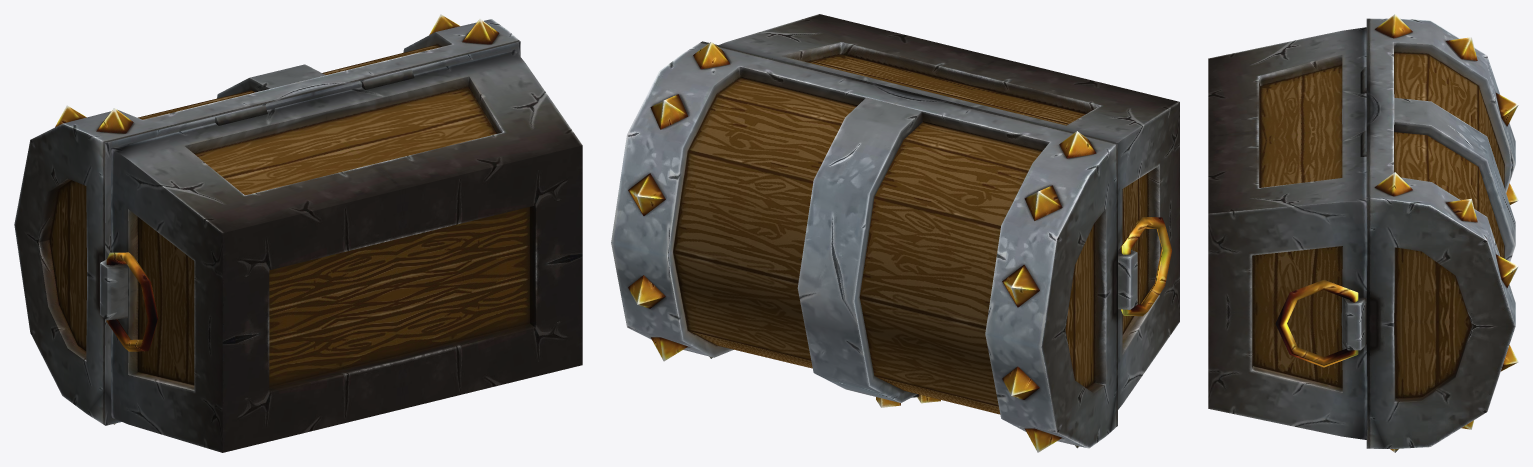
File: chest.fbx
3 renders of one model, left to right at view 1: azimuth 30°, elevation 25°; view 2: azimuth 150°, elevation 25°; view 3: azimuth 270°, elevation 25°, orthographic. The views are drawn at different scales.
Parts seen in each view (by area): view 1: chest_base, chest_top; view 2: chest_top, chest_base; view 3: chest_base, chest_top.
Part boxes in pixels (x1,y1,x2,y2): chest_base: [100, 49, 582, 452]; chest_top: [14, 14, 520, 425]; chest_top: [611, 41, 1117, 452]; chest_base: [719, 14, 1179, 409]; chest_base: [1208, 27, 1367, 439]; chest_top: [1366, 14, 1518, 452].
Bounding box in the file's own units: 0.7461 × 0.5223 × 0.5232.
